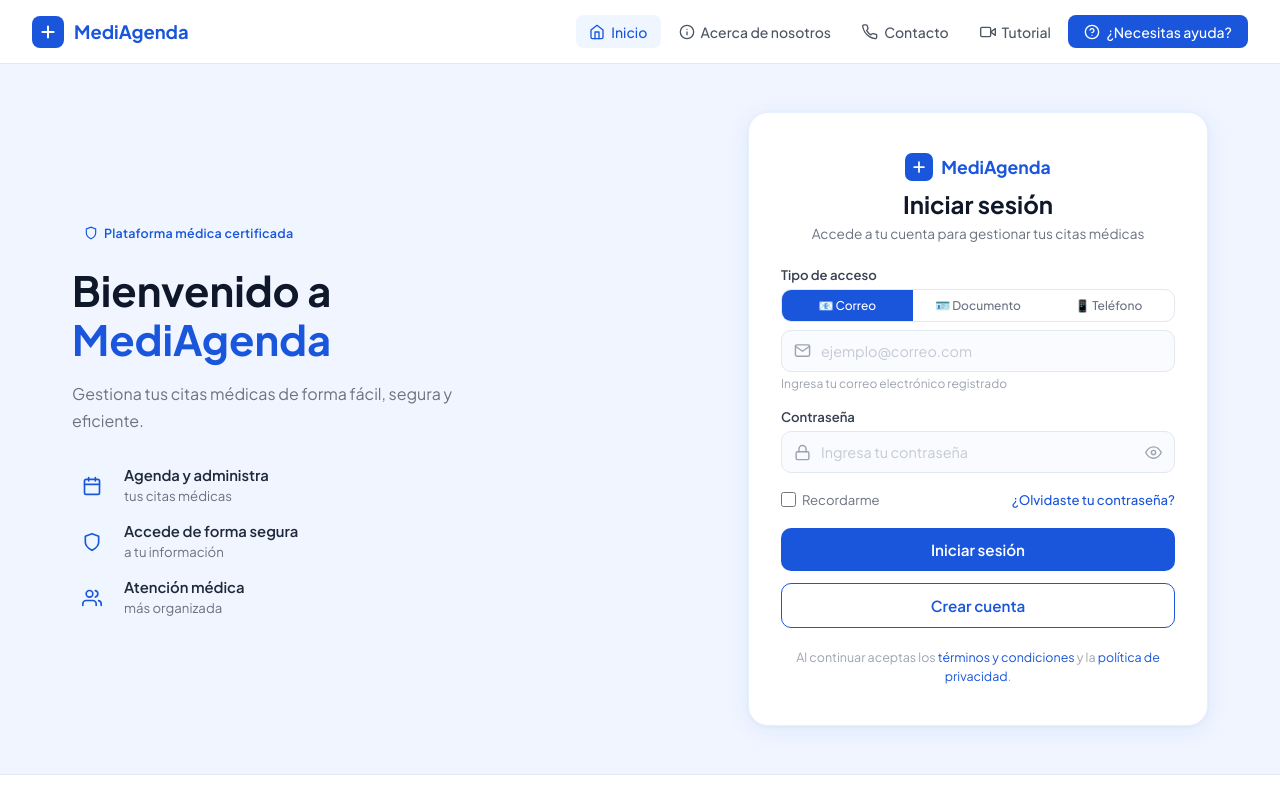
Scenario: Componente Login - MediAgenda › Interacciones del usuario › debe cambiar placeholder al seleccionar tipo Documento
Click the button "🪪 Documento".
click(978, 305)  # box [913,290,1043,321]
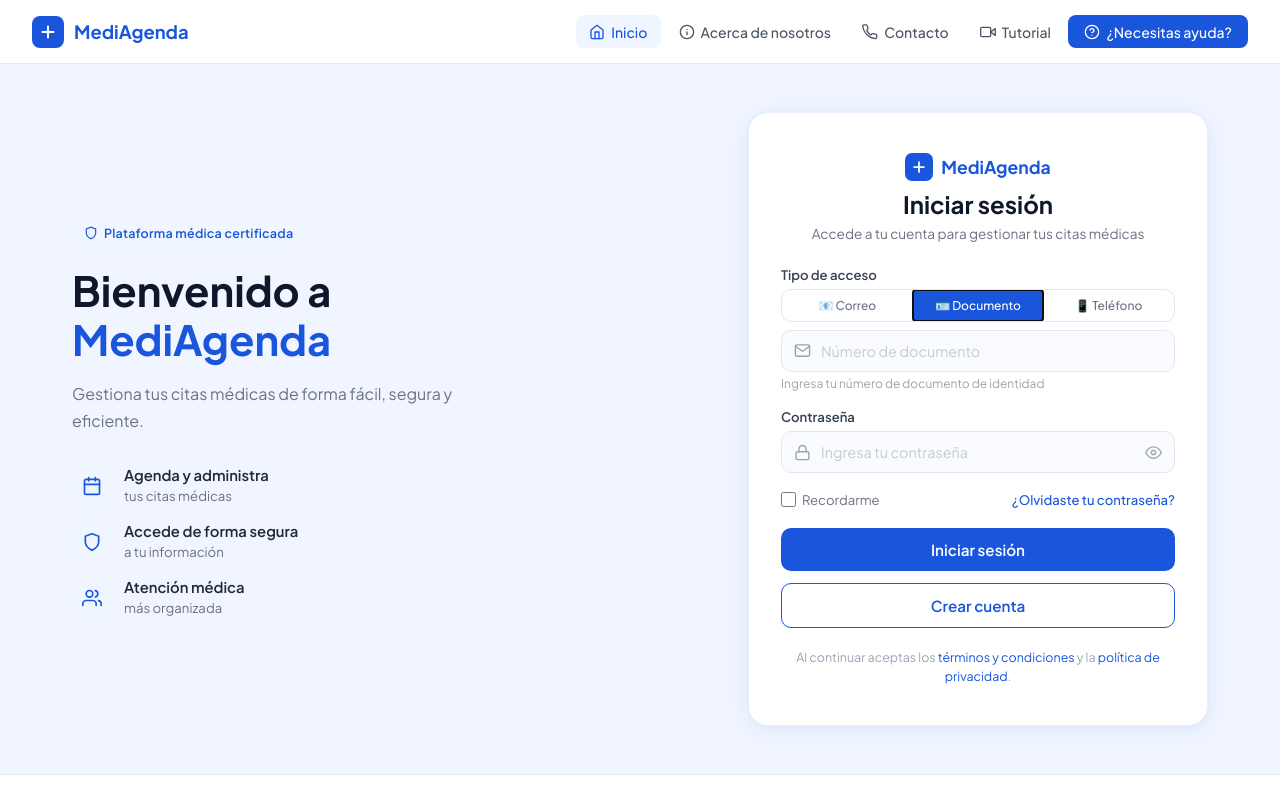
expect the field with placeholder "Número de documento" is shown: met, box [811,331,1162,371]
